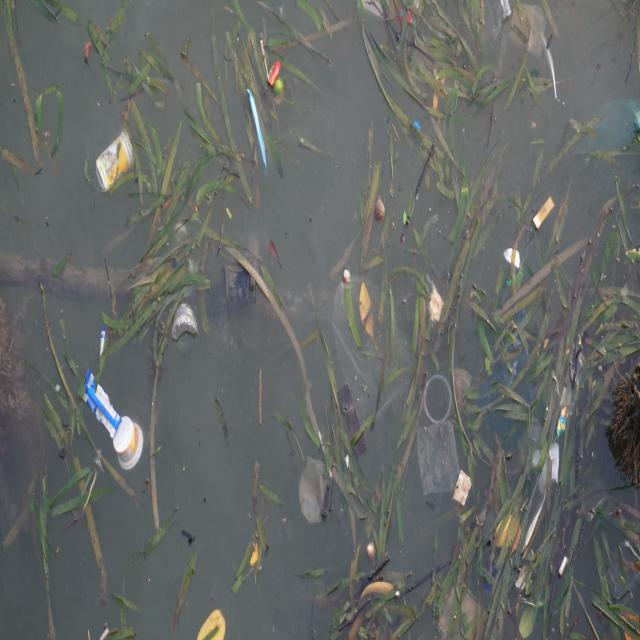Botol Plastik: (171, 301, 206, 354)
Bungkus Makanan: (81, 365, 123, 441)
Bungkus Minuman: (96, 133, 138, 194)
Kantong Plastik: (331, 272, 416, 420)
